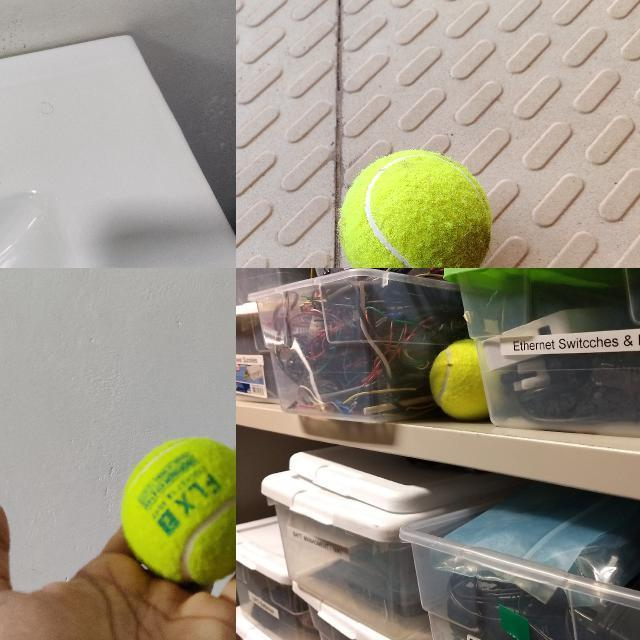tennis-ball: (340, 150, 493, 267), (120, 436, 235, 582), (428, 339, 472, 421)
